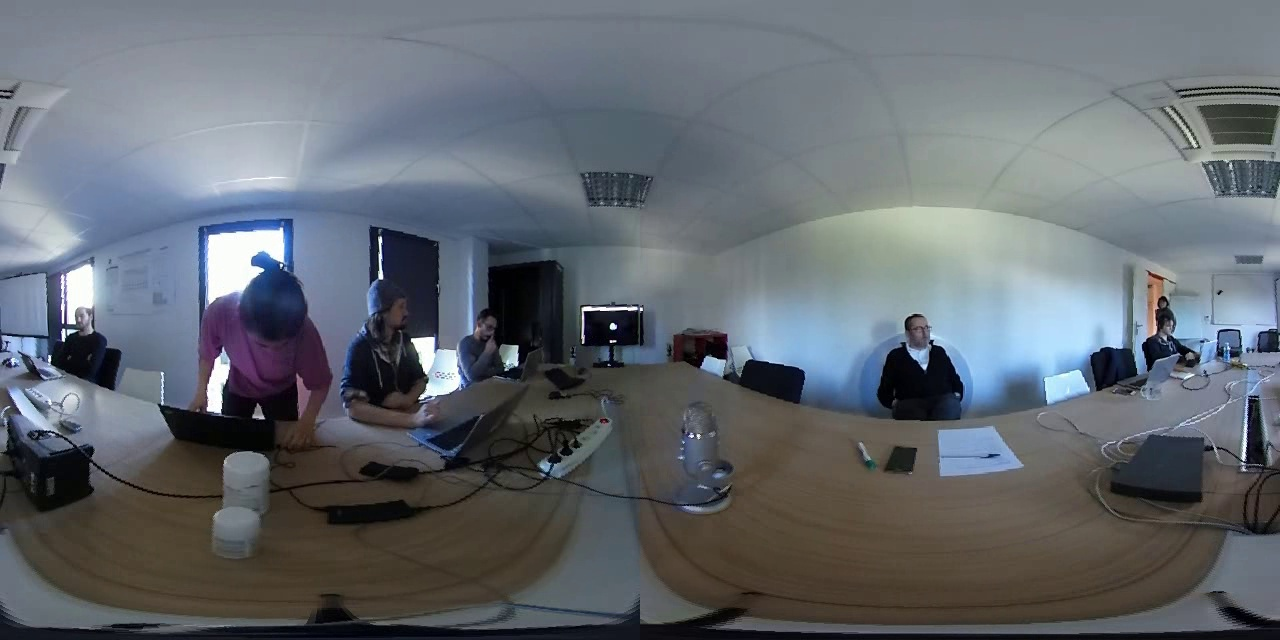person: (191, 247, 338, 431), (341, 270, 435, 404), (873, 304, 965, 416), (49, 292, 111, 380), (455, 300, 513, 367), (1144, 313, 1191, 364), (1140, 286, 1180, 319)
